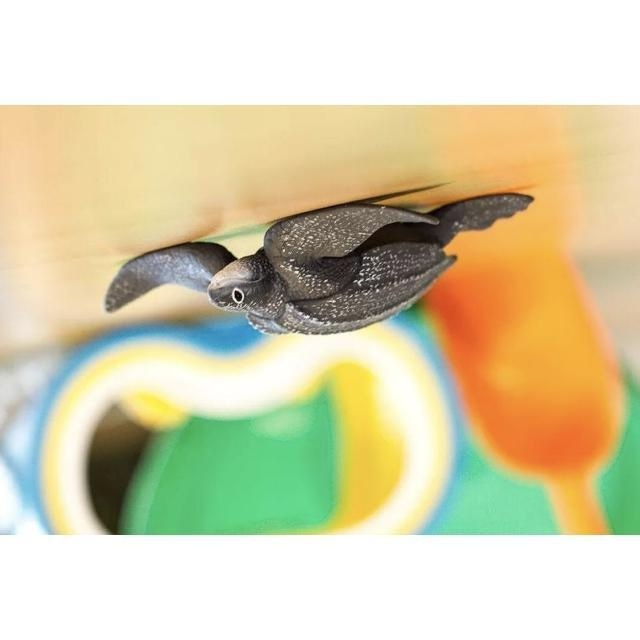turtle: (105, 192, 533, 337)
